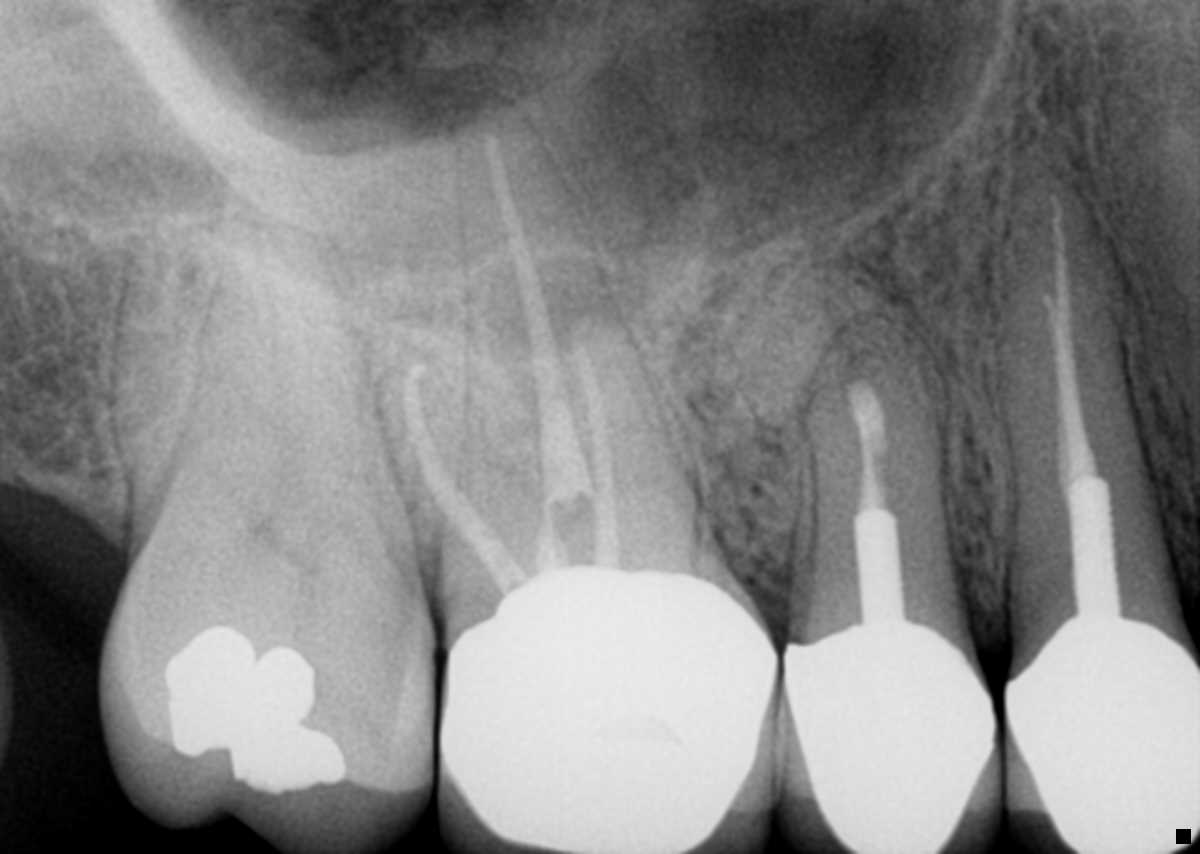Apical Lesion: (487, 253, 646, 363)
Distal Root: (111, 203, 297, 534), (379, 309, 559, 605)
Main Root: (1001, 180, 1180, 612), (787, 307, 966, 621)
Mesial Root: (552, 309, 696, 562)
Palatal Root: (437, 88, 713, 573), (159, 137, 428, 551)
Root Canal Filling: (481, 129, 598, 512), (404, 365, 528, 595), (1042, 195, 1098, 478), (568, 338, 623, 568), (858, 443, 886, 511)
